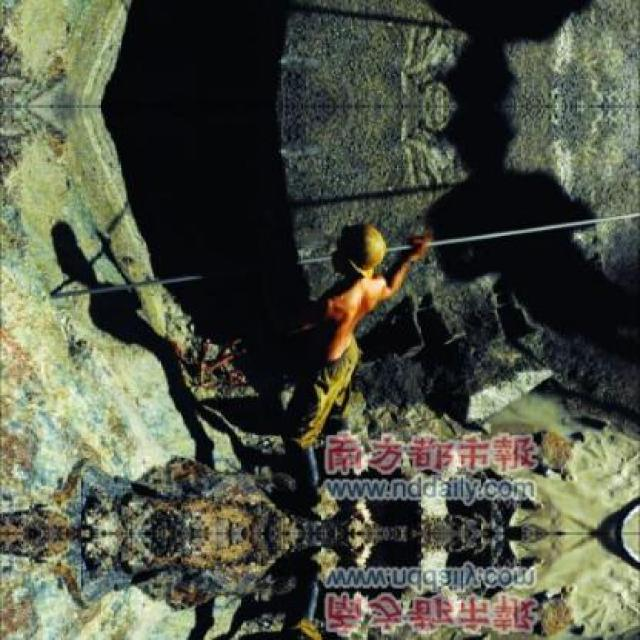helmet: (326, 218, 388, 280)
